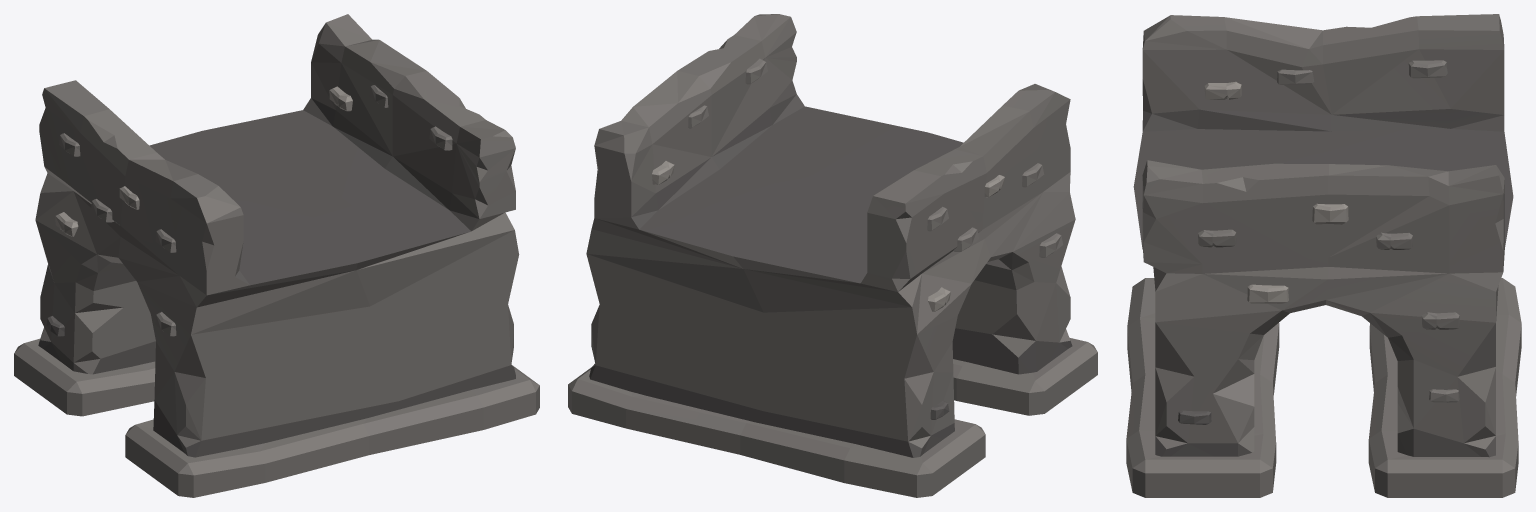
The model's file is SM_Env_Canal_Bridge_01.gltf.
3 views of the same model, side by side, from view 1: azimuth 30°, elevation 25°; view 2: azimuth 150°, elevation 25°; view 3: azimuth 270°, elevation 25° (orthographic). The views are drawn at different scales.
Visible parts, largest first — view 1: SM_Env_Canal_Bridge_01; view 2: SM_Env_Canal_Bridge_01; view 3: SM_Env_Canal_Bridge_01.
Part boxes in pixels (x1=…): SM_Env_Canal_Bridge_01: x1=14, y1=14, x2=539, y2=497; SM_Env_Canal_Bridge_01: x1=568, y1=14, x2=1097, y2=497; SM_Env_Canal_Bridge_01: x1=1126, y1=14, x2=1521, y2=497.
Bounding box in the file's own units: 4.24 × 3.16 × 3.69.
1 material, 1 textured.
